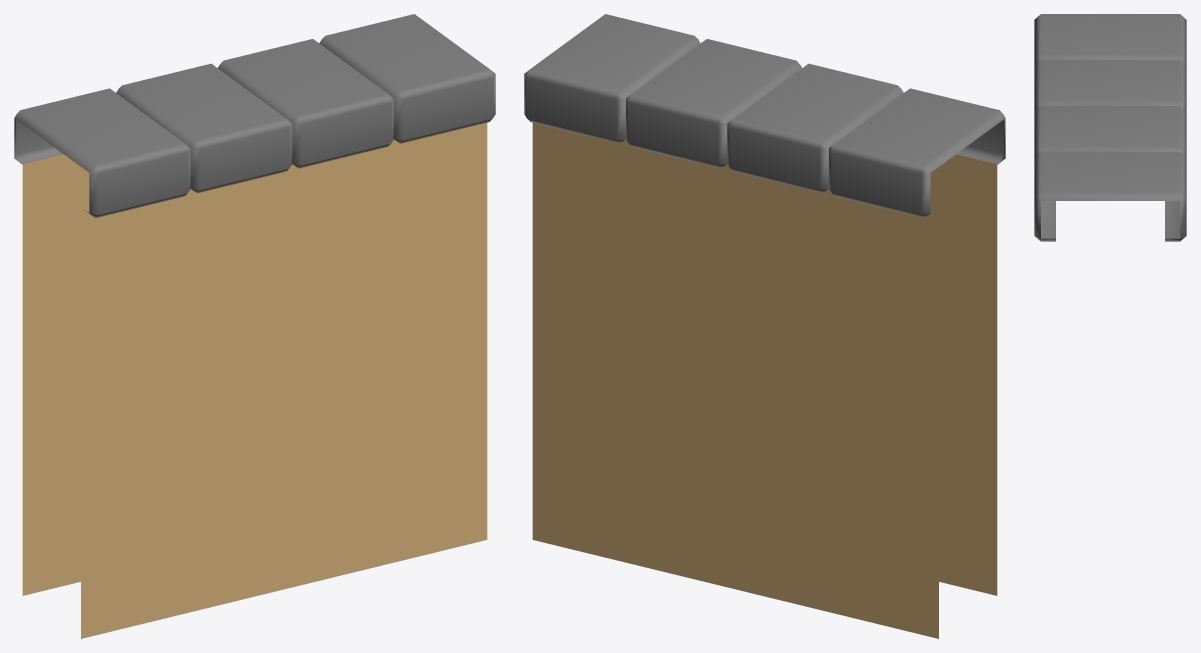
File: SM_WallB_4x4_LOD0.fbx
The picture shows the model from 3 angles, left to right: view 1: azimuth 30°, elevation 25°; view 2: azimuth 150°, elevation 25°; view 3: azimuth 270°, elevation 25°; orthographic projection. The views are drawn at different scales.
Parts seen in each view (by area): view 1: SM_WallB_4x4_LOD0; view 2: SM_WallB_4x4_LOD0; view 3: SM_WallB_4x4_LOD0.
Boxes of the visible parts, x1=… form: SM_WallB_4x4_LOD0: x1=14, y1=14, x2=495, y2=638; SM_WallB_4x4_LOD0: x1=524, y1=14, x2=1005, y2=638; SM_WallB_4x4_LOD0: x1=1034, y1=14, x2=1186, y2=241.
Bounding box in the file's own units: 4 × 4.5 × 1.4.
